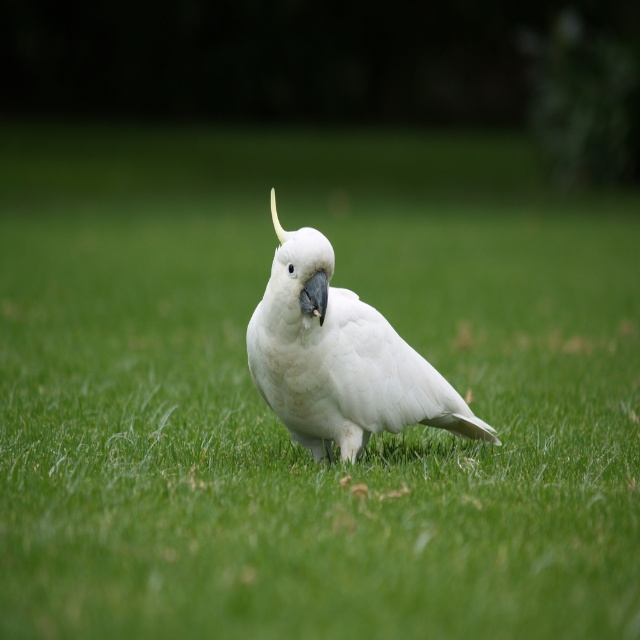Parrot: (246, 187, 502, 472)
